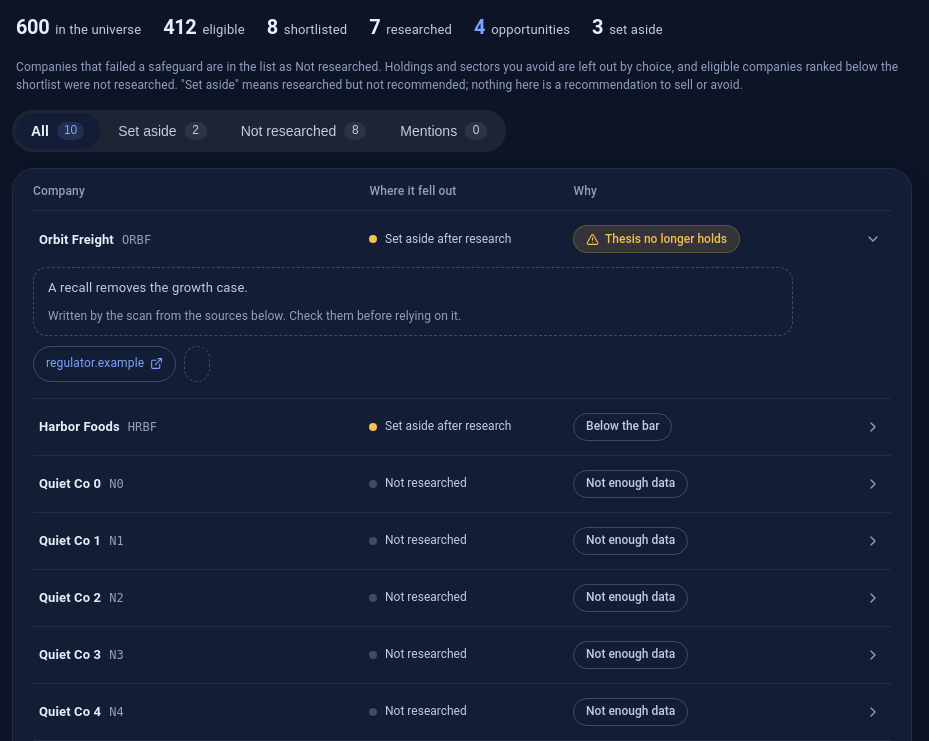
Test: ScanResults › filters to one kind and says so when there is nothing in it
Click the button "Mentions 0": (444, 131) [384, 113, 503, 149]
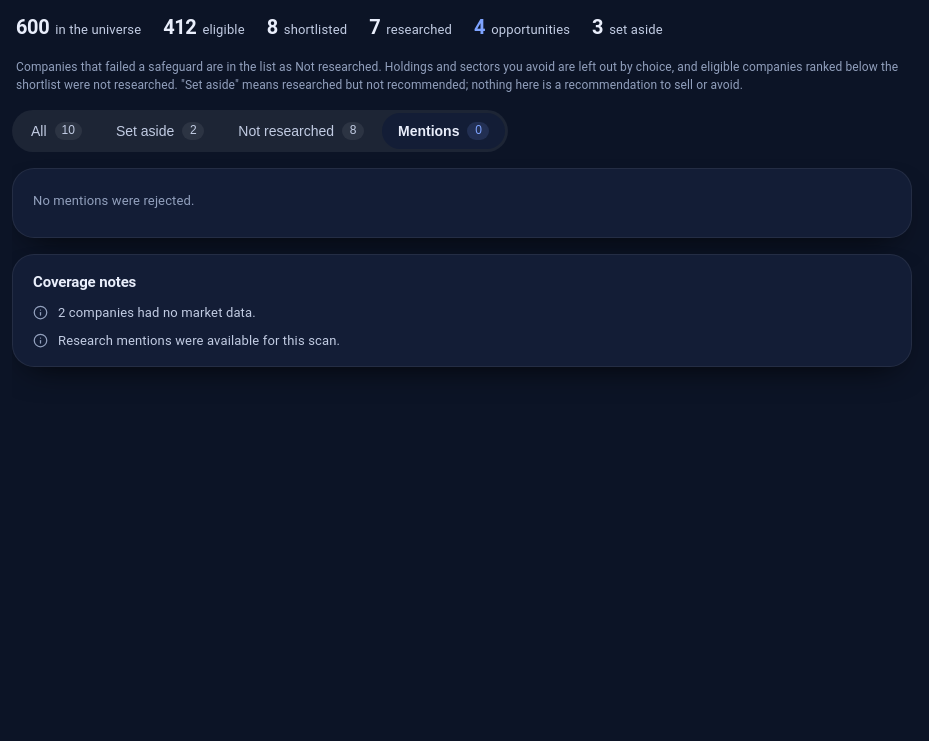
Check: the text "No mentions were rejected." is shown, box [33, 193, 194, 208]
